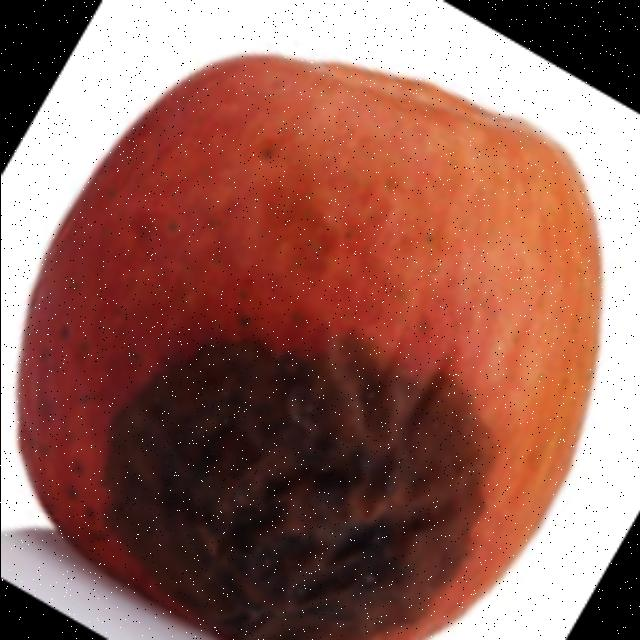Apel Tidak Segar: (14, 46, 588, 640)
